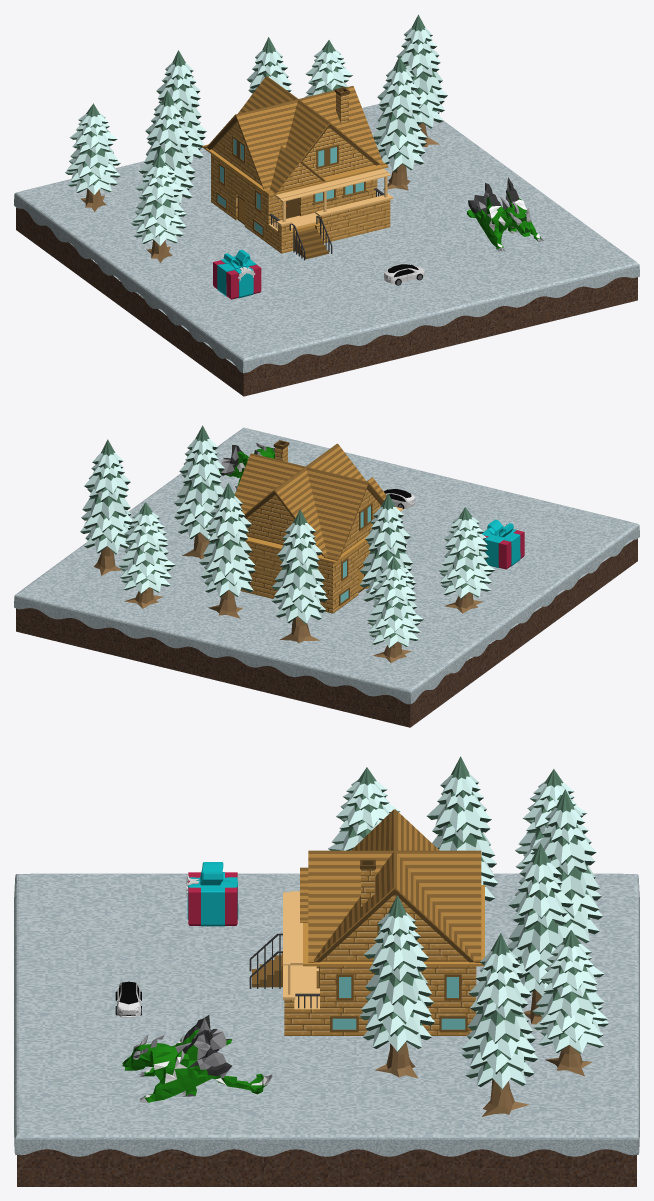
3 views of the same model, one above another, from view 1: azimuth 30°, elevation 25°; view 2: azimuth 150°, elevation 25°; view 3: azimuth 270°, elevation 25° (orthographic). The views are drawn at different scales.
Parts seen in each view (by area): view 1: Cube.003, Cube.508, ANIMAL_DRAGON, OBJRANDOM_GIANT_PRESENT, VEHICLES_TESLA; view 2: Cube.003, Cube.508, OBJRANDOM_GIANT_PRESENT, ANIMAL_DRAGON, VEHICLES_TESLA; view 3: Cube.003, Cube.508, ANIMAL_DRAGON, OBJRANDOM_GIANT_PRESENT, VEHICLES_TESLA.
Part boxes in pixels (x1,y1,x2,y2): Cube.003: (14, 14, 639, 396); Cube.508: (202, 76, 393, 260); ANIMAL_DRAGON: (467, 177, 543, 251); OBJRANDOM_GIANT_PRESENT: (213, 249, 261, 299); VEHICLES_TESLA: (384, 264, 424, 285); Cube.003: (14, 425, 639, 727); Cube.508: (235, 440, 405, 613); OBJRANDOM_GIANT_PRESENT: (482, 519, 524, 569); ANIMAL_DRAGON: (219, 442, 274, 494); VEHICLES_TESLA: (383, 489, 415, 508); Cube.003: (14, 756, 639, 1186); Cube.508: (249, 809, 484, 1035); ANIMAL_DRAGON: (122, 1015, 272, 1102); OBJRANDOM_GIANT_PRESENT: (186, 862, 238, 926); VEHICLES_TESLA: (115, 981, 141, 1017).
Bounding box in the file's own units: 4040 × 1670 × 4040.
33 materials, 4 textured.
